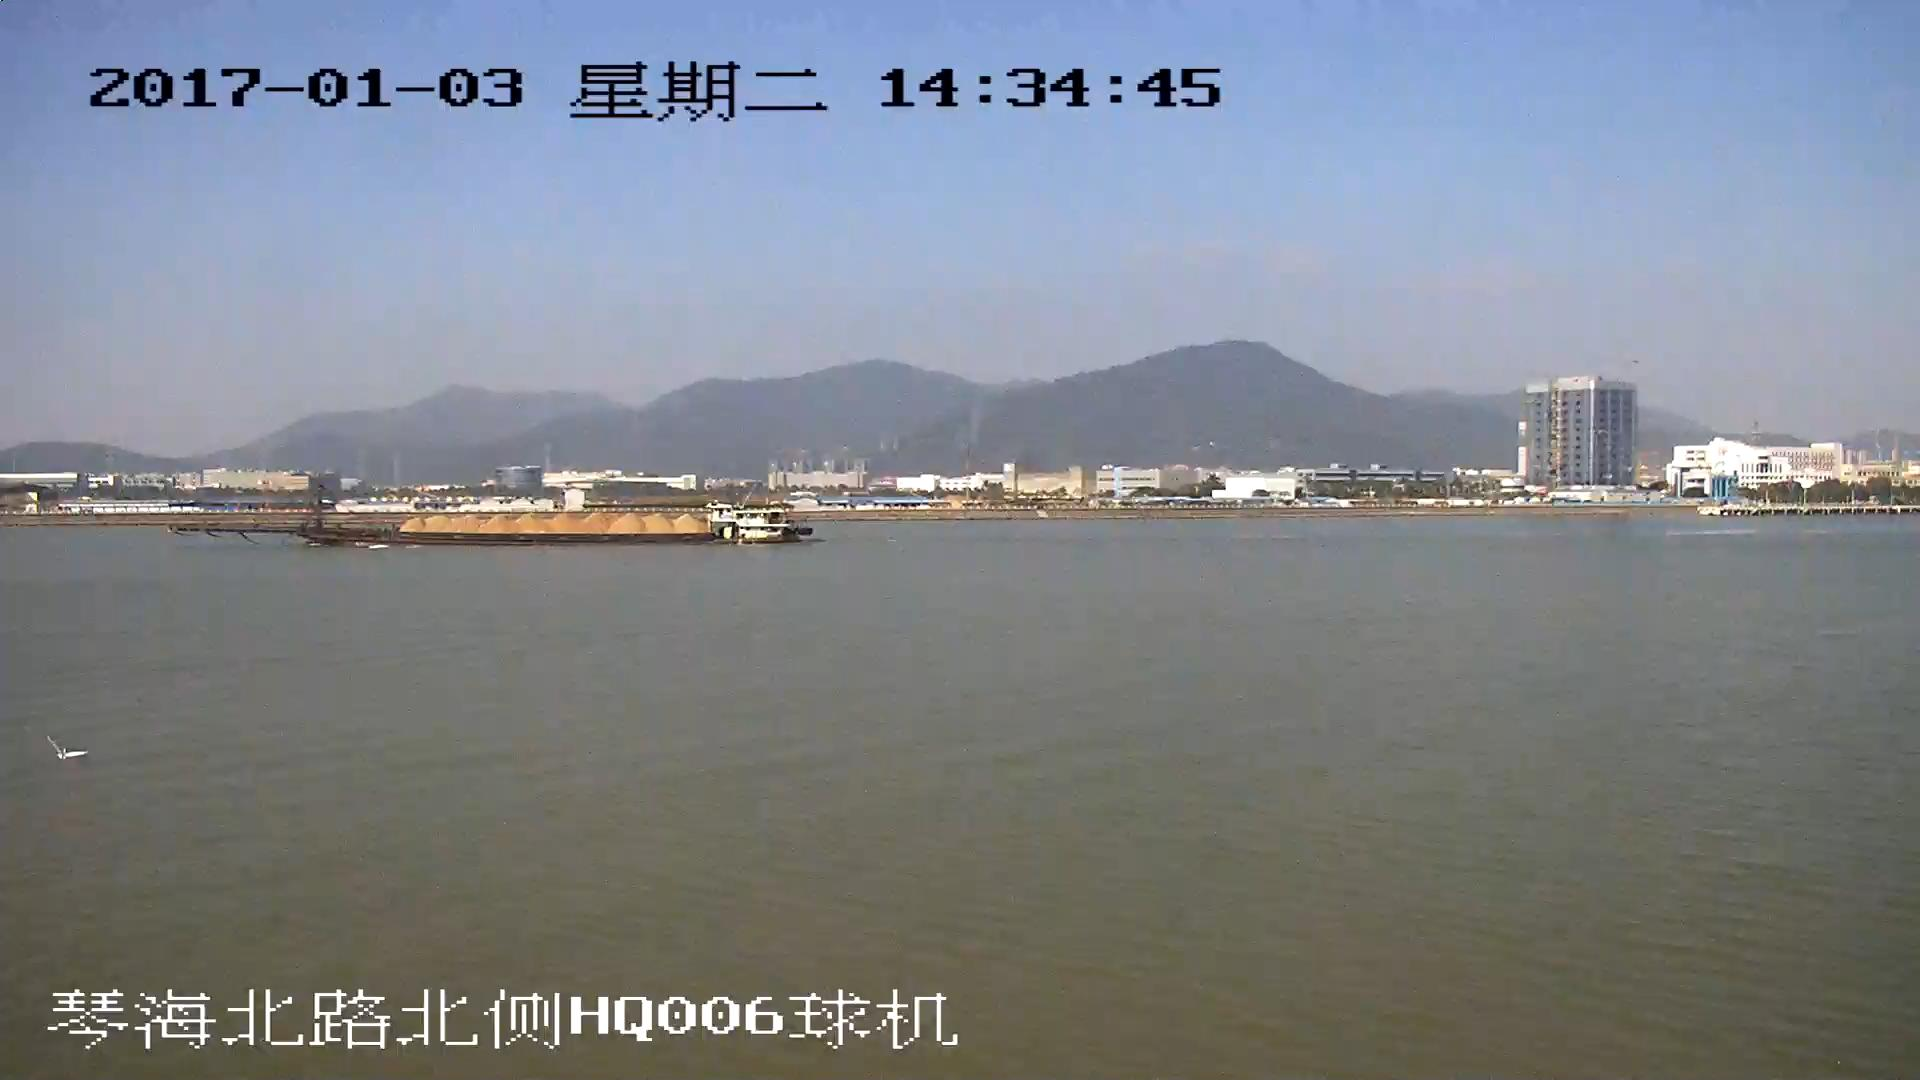ore carrier: (171, 495, 811, 548)
